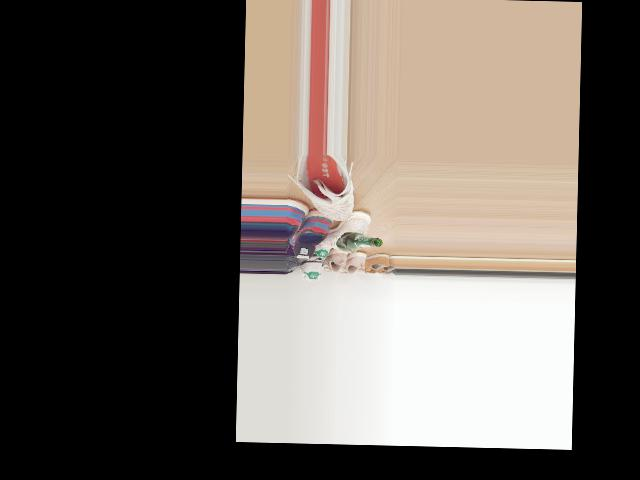beer: (336, 231, 382, 249)
